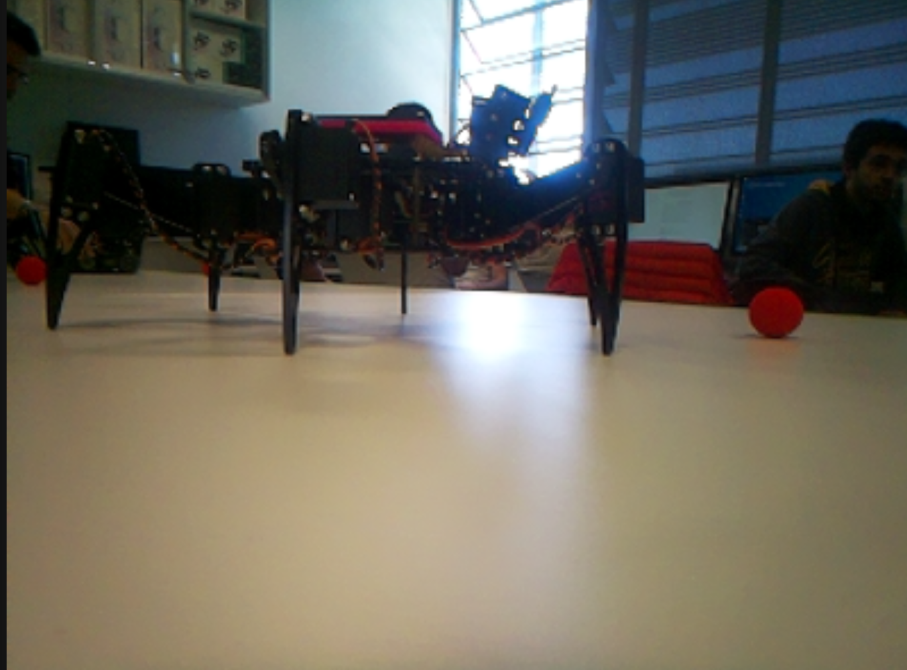bola_lejos: (745, 287, 808, 337), (18, 254, 46, 282)
hexapodo_propio: (46, 82, 645, 358)
